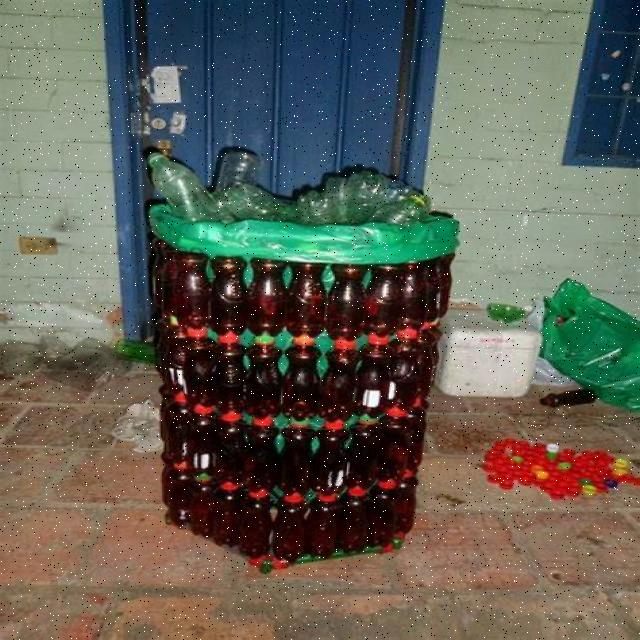garbage container: (122, 130, 474, 586)
